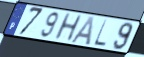7: (16, 5, 46, 37)
9: (111, 22, 135, 52), (39, 11, 60, 39)
A: (69, 16, 96, 47)
H: (52, 12, 84, 42)
L: (92, 19, 108, 49)
